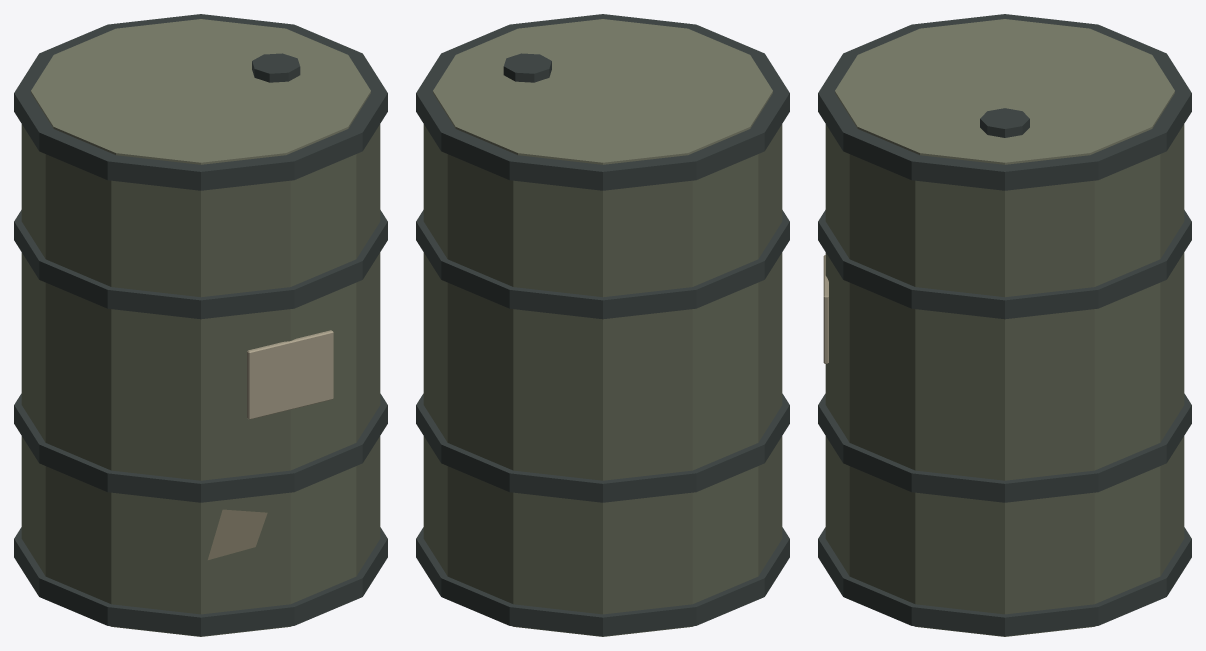
The model's file is OilDrum01.fbx.
The picture shows the model from 3 angles, left to right: view 1: azimuth 30°, elevation 25°; view 2: azimuth 150°, elevation 25°; view 3: azimuth 270°, elevation 25°; orthographic projection.
Visible parts, largest first — view 1: Drum, Lid, Rolled_Rim.003, Rolled_Rim.001, Rolled_Rim.002, Rolled_Rim, Faded_Label, Paint_Chip, Bung; view 2: Drum, Lid, Rolled_Rim.003, Rolled_Rim.001, Rolled_Rim.002, Rolled_Rim, Bung; view 3: Drum, Lid, Rolled_Rim.003, Rolled_Rim.001, Rolled_Rim.002, Rolled_Rim, Bung, Faded_Label.
Boxes of the visible parts, x1,y1,x2,y2 form: Drum: [21, 124, 380, 636]; Lid: [31, 19, 370, 164]; Rolled_Rim.003: [14, 14, 387, 190]; Rolled_Rim.001: [14, 393, 387, 502]; Rolled_Rim.002: [14, 210, 387, 319]; Rolled_Rim: [14, 527, 387, 636]; Faded_Label: [247, 330, 333, 419]; Paint_Chip: [208, 509, 267, 559]; Bung: [252, 53, 300, 82]; Drum: [423, 124, 782, 636]; Lid: [433, 19, 772, 164]; Rolled_Rim.003: [416, 14, 789, 190]; Rolled_Rim.001: [416, 393, 789, 502]; Rolled_Rim.002: [416, 210, 789, 319]; Rolled_Rim: [416, 527, 789, 636]; Bung: [503, 53, 551, 82]; Drum: [825, 124, 1184, 636]; Lid: [835, 19, 1174, 164]; Rolled_Rim.003: [818, 14, 1191, 190]; Rolled_Rim.001: [818, 393, 1191, 502]; Rolled_Rim.002: [818, 210, 1191, 319]; Rolled_Rim: [818, 527, 1191, 636]; Bung: [980, 108, 1029, 137]; Faded_Label: [823, 255, 828, 363].
Bounding box in the file's own units: 64.6 × 91.4 × 64.6.
